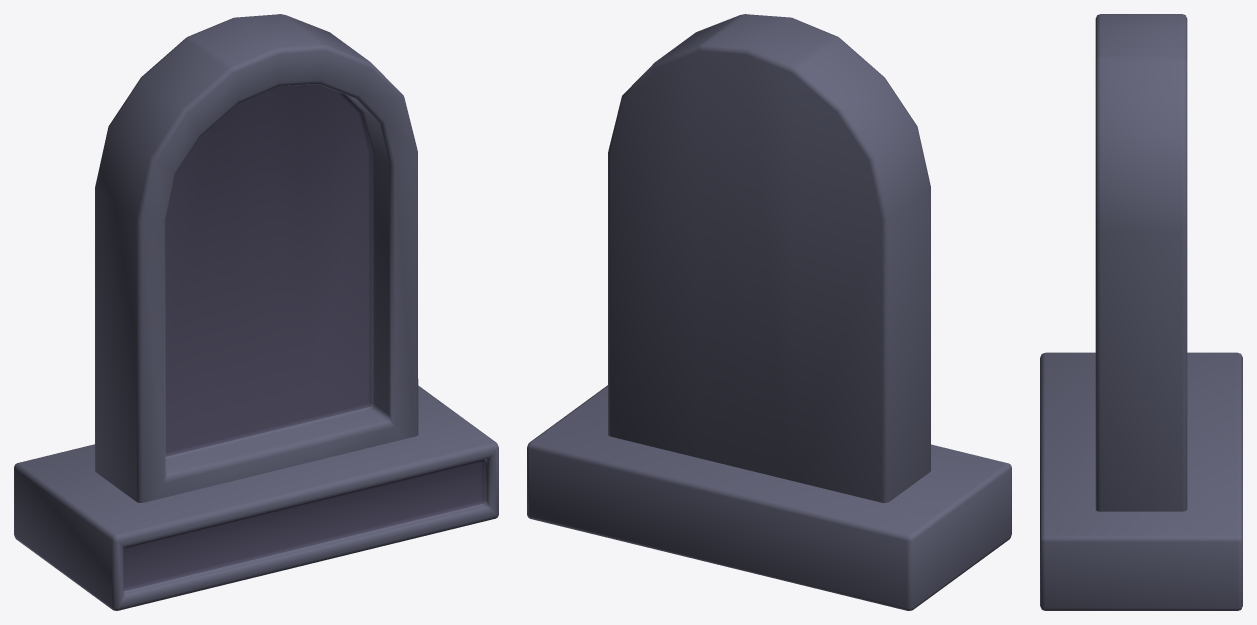
The model's file is Headstone_Outside.glb.
3 views of the same model, side by side, from view 1: azimuth 30°, elevation 25°; view 2: azimuth 150°, elevation 25°; view 3: azimuth 270°, elevation 25° (orthographic).
Visible parts, largest first — view 1: Headstone_Outside; view 2: Headstone_Outside; view 3: Headstone_Outside.
Part boxes in pixels (bbox=[...]): Headstone_Outside: bbox=[14, 14, 498, 610]; Headstone_Outside: bbox=[527, 14, 1011, 610]; Headstone_Outside: bbox=[1040, 14, 1242, 610].
Bounding box in the file's own units: 0.393 × 0.4827 × 0.1806.
1 material, 1 textured.
